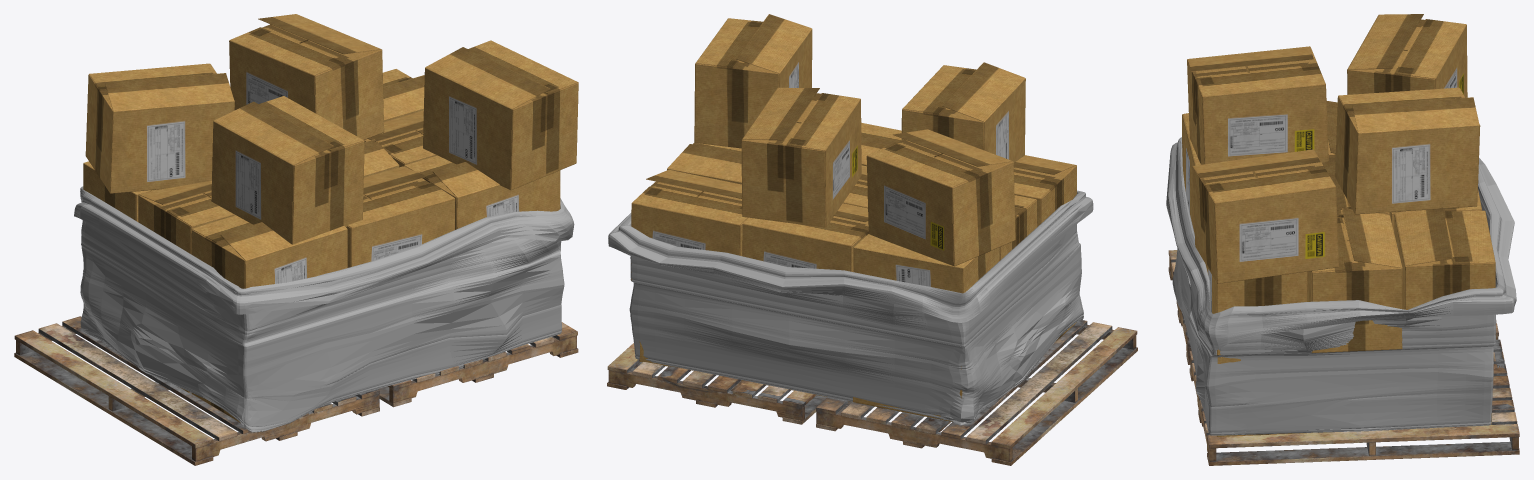
File: box_pallet.dae
3 views of the same model, side by side, from view 1: azimuth 30°, elevation 25°; view 2: azimuth 150°, elevation 25°; view 3: azimuth 270°, elevation 25° (orthographic). The views are drawn at different scales.
Visible parts, largest first — view 1: AM200_029_obj_003, AM200_029_obj_077, AM200_029_obj_076, AM200_029_obj_075, AM200_029_obj_001, AM200_029_obj_002, AM200_029_obj_080, AM200_029_obj_079, AM200_029_obj_078, AM200_029_obj_089, AM200_029_obj_096, AM200_029_obj_085 (+3 smaller); view 2: AM200_029_obj_003, AM200_029_obj_075, AM200_029_obj_001, AM200_029_obj_002, AM200_029_obj_077, AM200_029_obj_076, AM200_029_obj_091, AM200_029_obj_096, AM200_029_obj_090, AM200_029_obj_095, AM200_029_obj_080, AM200_029_obj_085 (+3 smaller); view 3: AM200_029_obj_003, AM200_029_obj_002, AM200_029_obj_077, AM200_029_obj_076, AM200_029_obj_096, AM200_029_obj_075, AM200_029_obj_091, AM200_029_obj_085, AM200_029_obj_078, AM200_029_obj_080, AM200_029_obj_084, AM200_029_obj_089 (+1 smaller).
Boxes of the visible parts, x1=… form: AM200_029_obj_003: x1=74, y1=186, x2=574, y2=432; AM200_029_obj_077: x1=423, y1=40, x2=578, y2=190; AM200_029_obj_076: x1=211, y1=96, x2=364, y2=244; AM200_029_obj_075: x1=85, y1=63, x2=234, y2=193; AM200_029_obj_001: x1=14, y1=316, x2=379, y2=465; AM200_029_obj_002: x1=229, y1=14, x2=384, y2=139; AM200_029_obj_080: x1=191, y1=215, x2=347, y2=288; AM200_029_obj_079: x1=346, y1=166, x2=455, y2=267; AM200_029_obj_078: x1=404, y1=155, x2=560, y2=229; AM200_029_obj_089: x1=138, y1=180, x2=235, y2=254; AM200_029_obj_096: x1=378, y1=322, x2=578, y2=407; AM200_029_obj_085: x1=364, y1=110, x2=437, y2=167; AM200_029_obj_003: x1=608, y1=190, x2=1093, y2=424; AM200_029_obj_075: x1=866, y1=129, x2=1015, y2=266; AM200_029_obj_001: x1=816, y1=320, x2=1137, y2=465; AM200_029_obj_002: x1=741, y1=87, x2=861, y2=227; AM200_029_obj_077: x1=694, y1=14, x2=812, y2=148; AM200_029_obj_076: x1=901, y1=62, x2=1025, y2=167; AM200_029_obj_091: x1=631, y1=169, x2=748, y2=280; AM200_029_obj_096: x1=607, y1=343, x2=827, y2=424; AM200_029_obj_090: x1=742, y1=203, x2=868, y2=271; AM200_029_obj_095: x1=853, y1=234, x2=999, y2=293; AM200_029_obj_080: x1=1013, y1=155, x2=1076, y2=226; AM200_029_obj_085: x1=667, y1=142, x2=741, y2=184; AM200_029_obj_003: x1=1166, y1=137, x2=1516, y2=435; AM200_029_obj_002: x1=1335, y1=87, x2=1480, y2=214; AM200_029_obj_077: x1=1192, y1=149, x2=1338, y2=283; AM200_029_obj_076: x1=1187, y1=46, x2=1328, y2=164; AM200_029_obj_096: x1=1189, y1=339, x2=1519, y2=465; AM200_029_obj_075: x1=1347, y1=14, x2=1467, y2=97; AM200_029_obj_091: x1=1394, y1=207, x2=1495, y2=309; AM200_029_obj_085: x1=1307, y1=208, x2=1402, y2=352; AM200_029_obj_078: x1=1205, y1=264, x2=1307, y2=355; AM200_029_obj_080: x1=1182, y1=113, x2=1200, y2=232; AM200_029_obj_084: x1=1322, y1=157, x2=1389, y2=217; AM200_029_obj_089: x1=1326, y1=101, x2=1337, y2=157.
Size of the model in its own units: 210 by 151 by 133.
